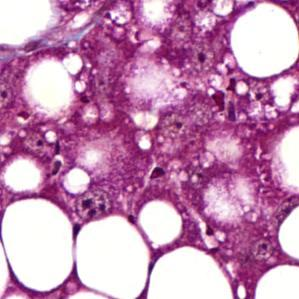steatosis: (232, 3, 299, 76)
